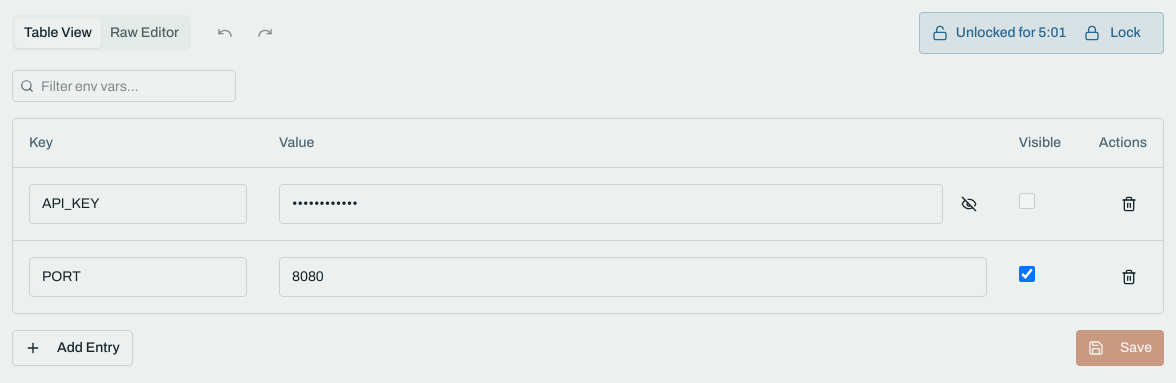
EnvEditor unlock/relock transition › reveal while unlocked, then manual relock (Lock button) re-masks the sensitive entry
The width and height of the screenshot is (1176, 383).
Check: the password field showing "secret-value" is shown, box [279, 184, 943, 224]
Step 1. Click the button named "Toggle visibility for entry 1" → (969,204), box [951, 186, 987, 222]
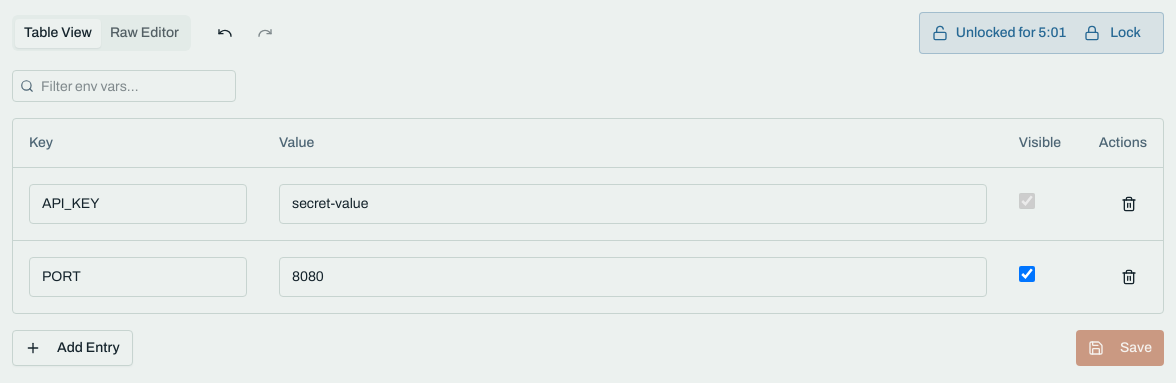
Step 2. Click the button with aria-label "Lock environment variables now" → (1113,33), box [1074, 19, 1151, 47]
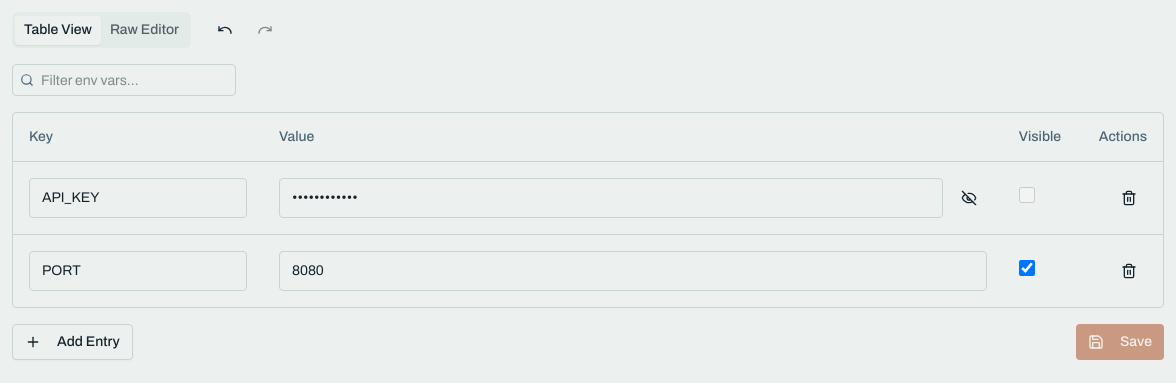
Check: the button named "Toggle visibility for entry 1" is shown, box [951, 180, 987, 216]
